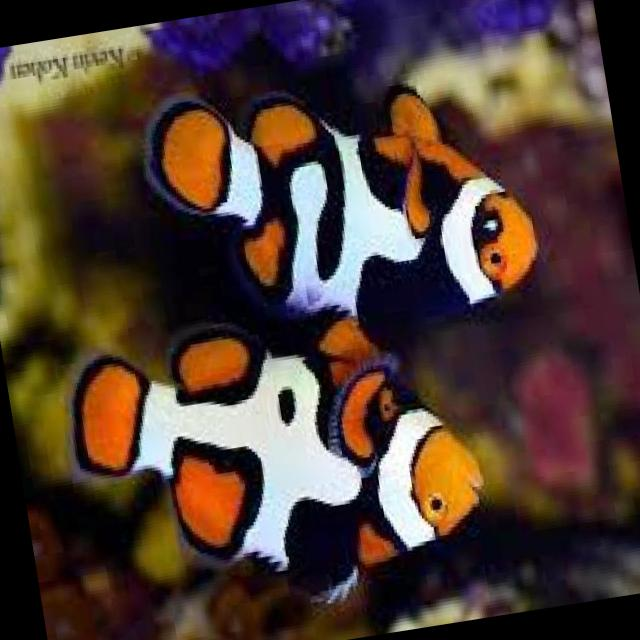ClownFish: (60, 298, 501, 639), (142, 42, 552, 364)
